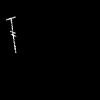treble_crochet: (8, 18, 15, 49)
